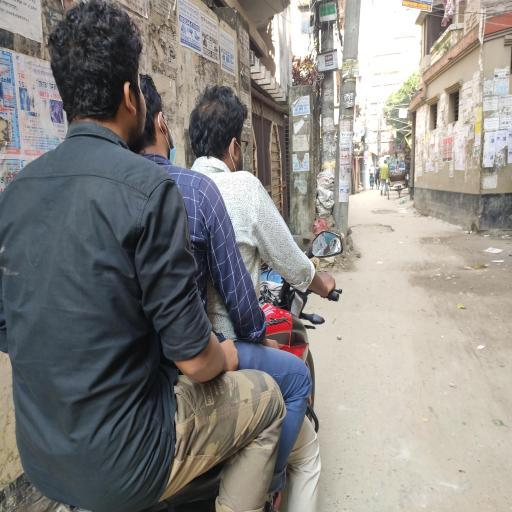no helmet: (175, 65, 260, 259)
triple riding: (0, 10, 357, 512)
